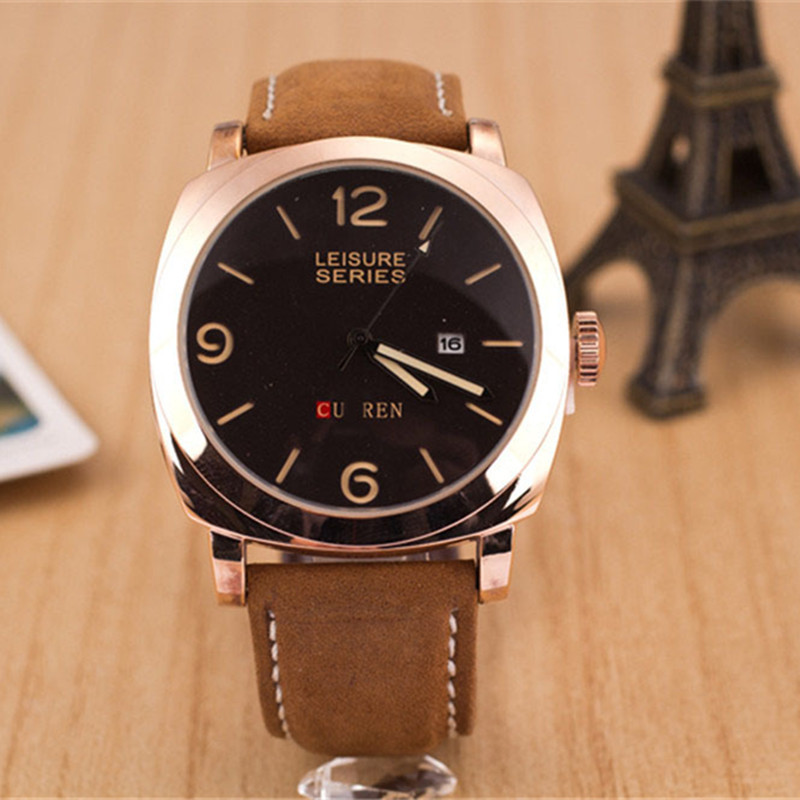clock: (182, 163, 545, 519)
